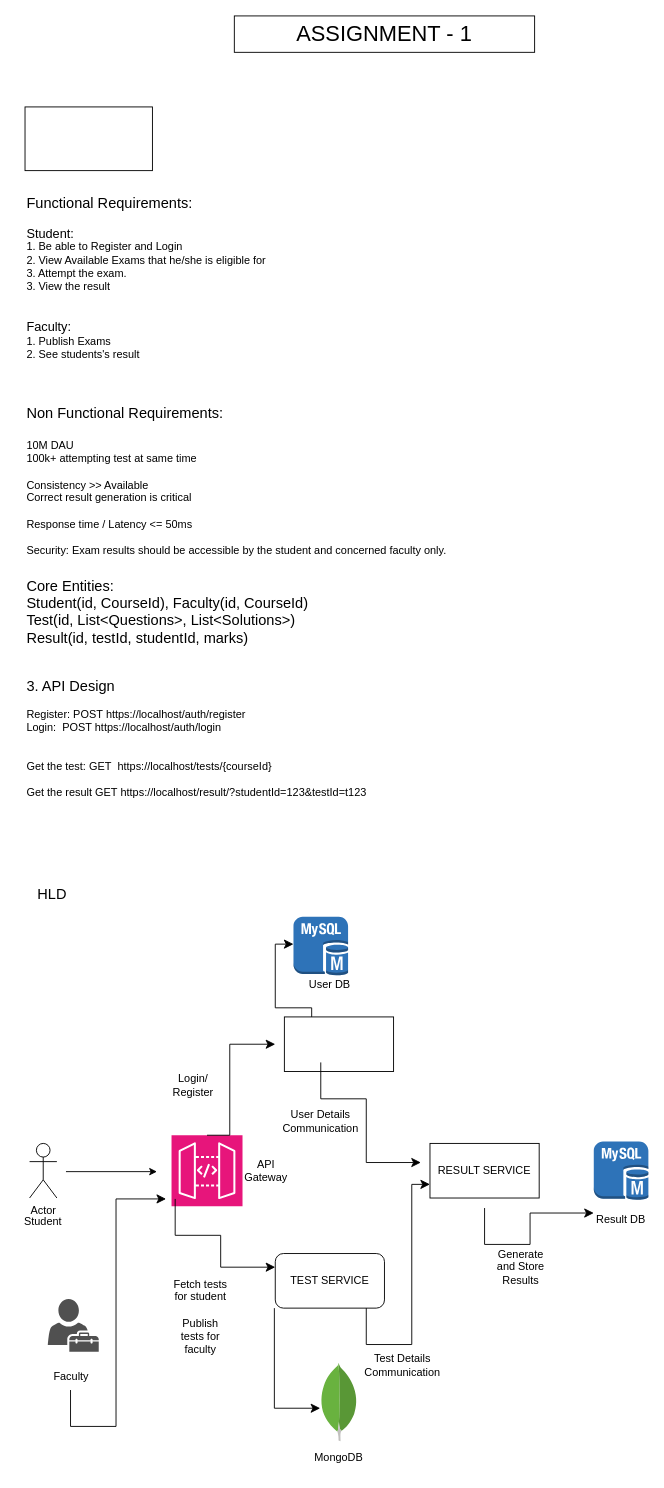
This 664x1488 diagram has some shape labels left out. Each missing label, with the box of its shape:
Submitted By: Name : Anmolpreet Singh UID: 23BCS11616: (24, 106, 152, 171)
USER SERVICE: (283, 1016, 394, 1072)
